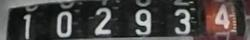digits: (56, 0, 76, 37), (93, 7, 111, 35), (173, 9, 190, 34), (134, 9, 151, 34), (214, 3, 230, 28), (22, 13, 31, 39)
